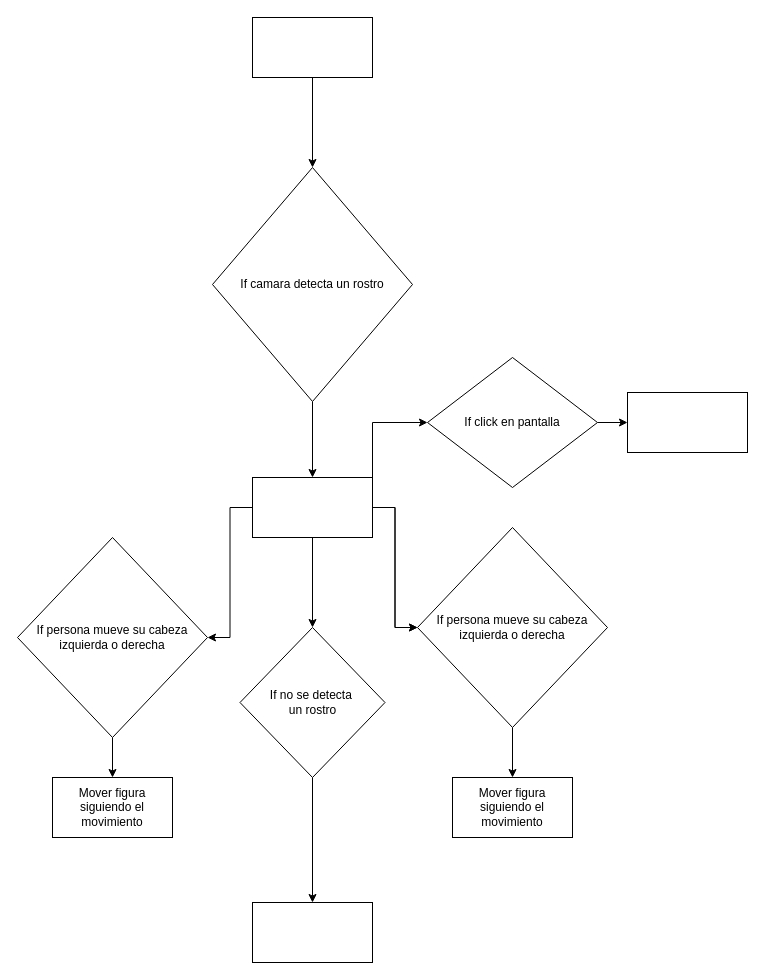
Some shapes in this 765 by 980 pixel diagram are drawn without their labels. The box of each missing label's shape, as (x1, y1, x2, y2) in pixels:
Dibujar trazo: (626, 392, 748, 452)
Figura queda centrada en la pantalla: (252, 902, 372, 962)
Mover figura alrededor de la pantalla siguiendo objeto en camara: (252, 476, 372, 538)
Objeto figura centrada en la pantalla: (252, 16, 372, 78)
